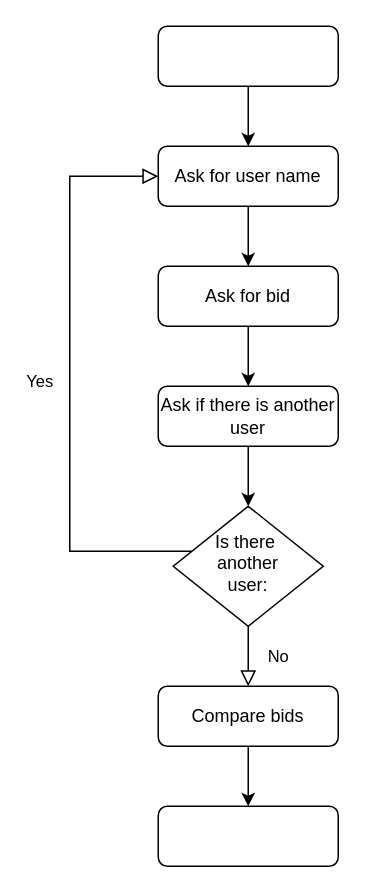
Image size: 365x893. Some labels were removed from this diagram. The centre of each missing label's shape, as x and y in pixels:
Welcome and draw art: point 247,55
Winner is highest bid: point 247,835
